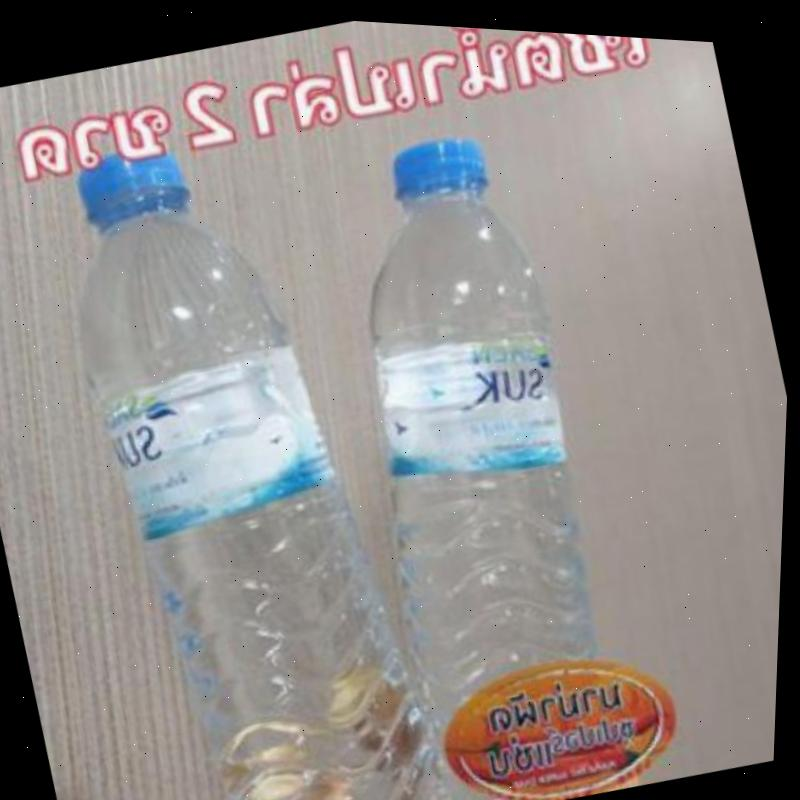botella: (23, 102, 470, 800), (285, 110, 670, 800)
